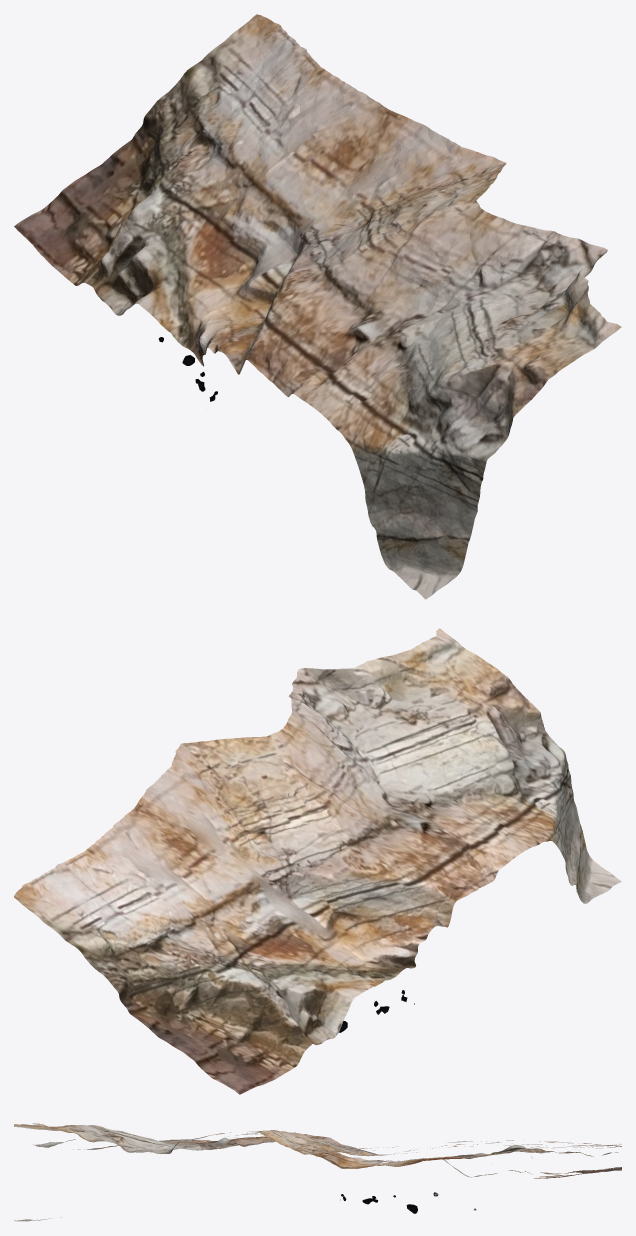
3 renders of one model, top to bottom at view 1: azimuth 30°, elevation 25°; view 2: azimuth 150°, elevation 25°; view 3: azimuth 270°, elevation 25°, orthographic. The views are drawn at different scales.
Bounding box in the file's own units: 1.97 × 1.52 × 5.05.
Materials: 1 (1 with a texture image).
